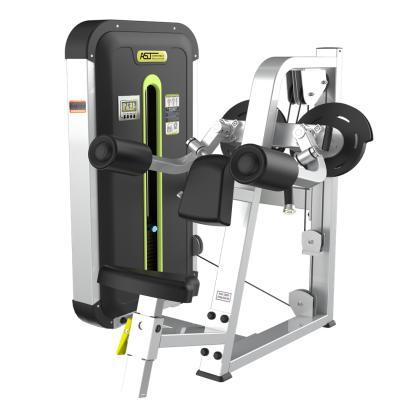lateral raises machine: (66, 19, 375, 408)
